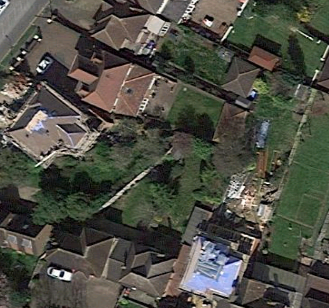tree: (26, 175, 68, 230), (135, 175, 181, 222), (67, 187, 103, 225), (182, 131, 222, 165)
